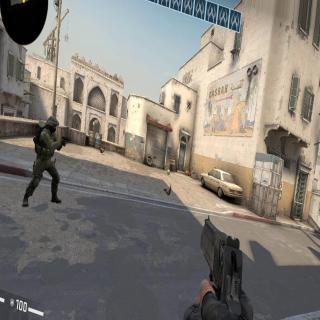CT-Body: (25, 114, 71, 196)
CT-Head: (46, 116, 58, 135)
